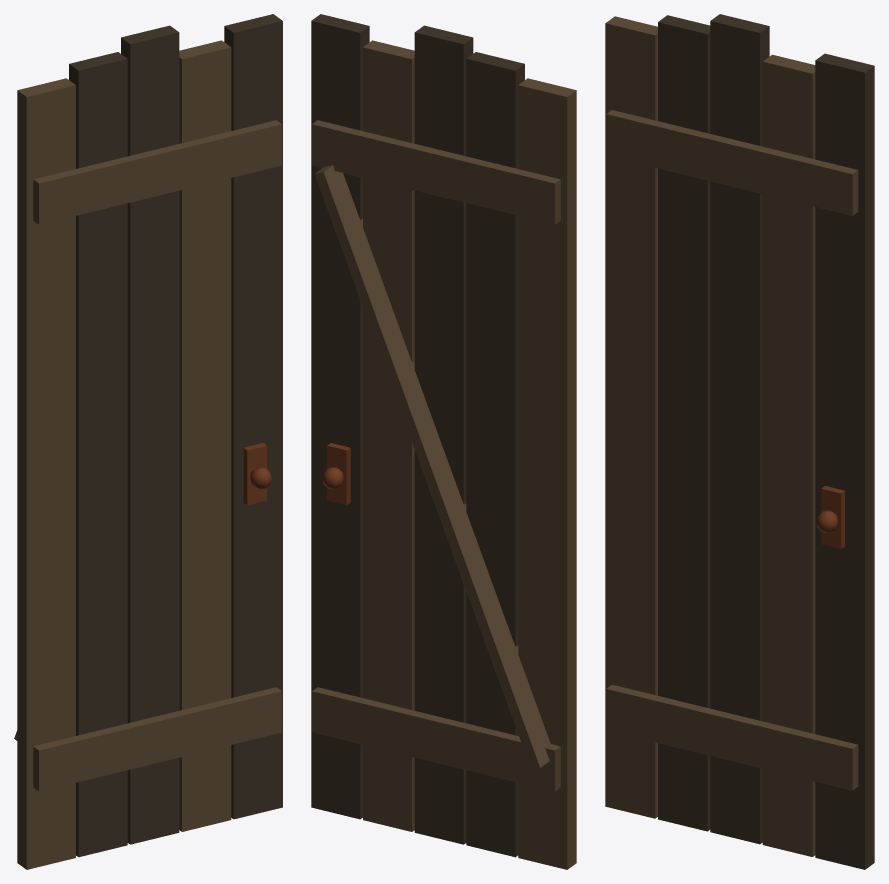
File: SM_Door_abandoned_80x230.fbx
3 views of the same model, side by side, from view 1: azimuth 30°, elevation 25°; view 2: azimuth 150°, elevation 25°; view 3: azimuth 330°, elevation 25° (orthographic).
Parts seen in each view (by area): view 1: SM_Door_abandoned_80x230; view 2: SM_Door_abandoned_80x230; view 3: SM_Door_abandoned_80x230.
Part boxes in pixels (x1,y1,x2,y2): SM_Door_abandoned_80x230: (14, 14, 282, 869); SM_Door_abandoned_80x230: (311, 14, 576, 869); SM_Door_abandoned_80x230: (605, 14, 874, 869).
Size of the model in its own units: 0.78 by 2.33 by 0.2.
